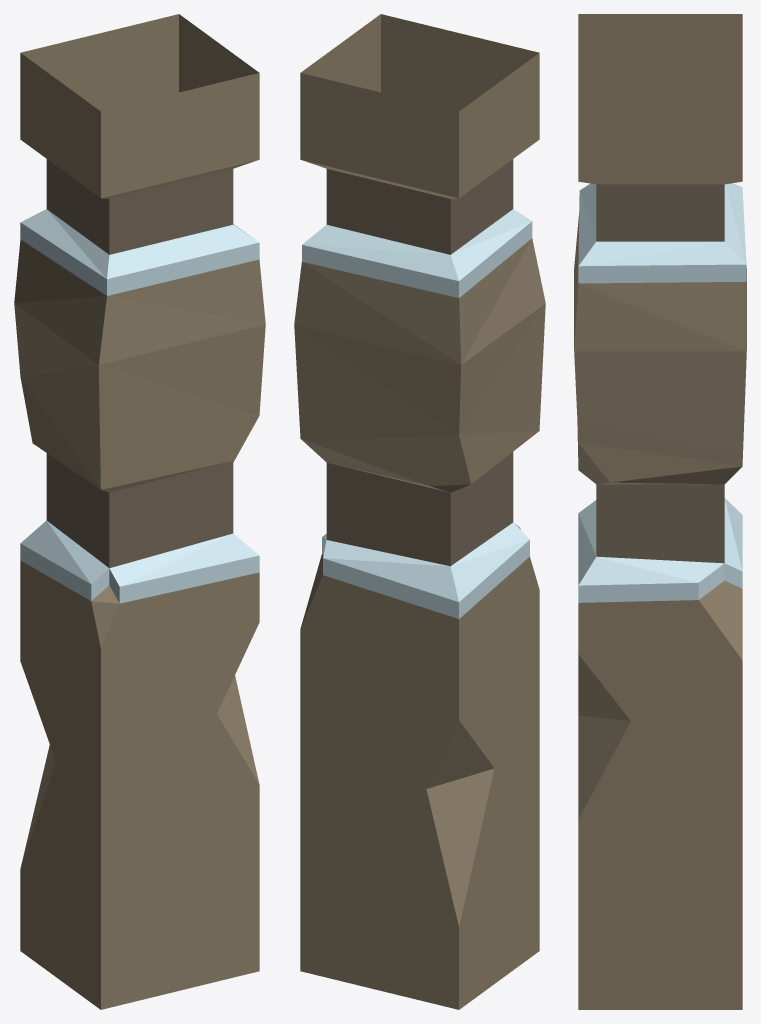
Rendered from SM_Bld_House_Chimney_02_Snow.glb.
3 renders of one model, left to right at view 1: azimuth 30°, elevation 25°; view 2: azimuth 150°, elevation 25°; view 3: azimuth 270°, elevation 25°, orthographic. The views are drawn at different scales.
Visible parts, largest first — view 1: SM_Bld_House_Chimney_02_Snow; view 2: SM_Bld_House_Chimney_02_Snow; view 3: SM_Bld_House_Chimney_02_Snow.
Boxes of the visible parts, x1,y1,x2,y2 form: SM_Bld_House_Chimney_02_Snow: [14, 14, 265, 1009]; SM_Bld_House_Chimney_02_Snow: [294, 14, 545, 1009]; SM_Bld_House_Chimney_02_Snow: [574, 14, 746, 1009].
Bounding box in the file's own units: 0.8954 × 4.6 × 0.7858.
1 material, 1 textured.
